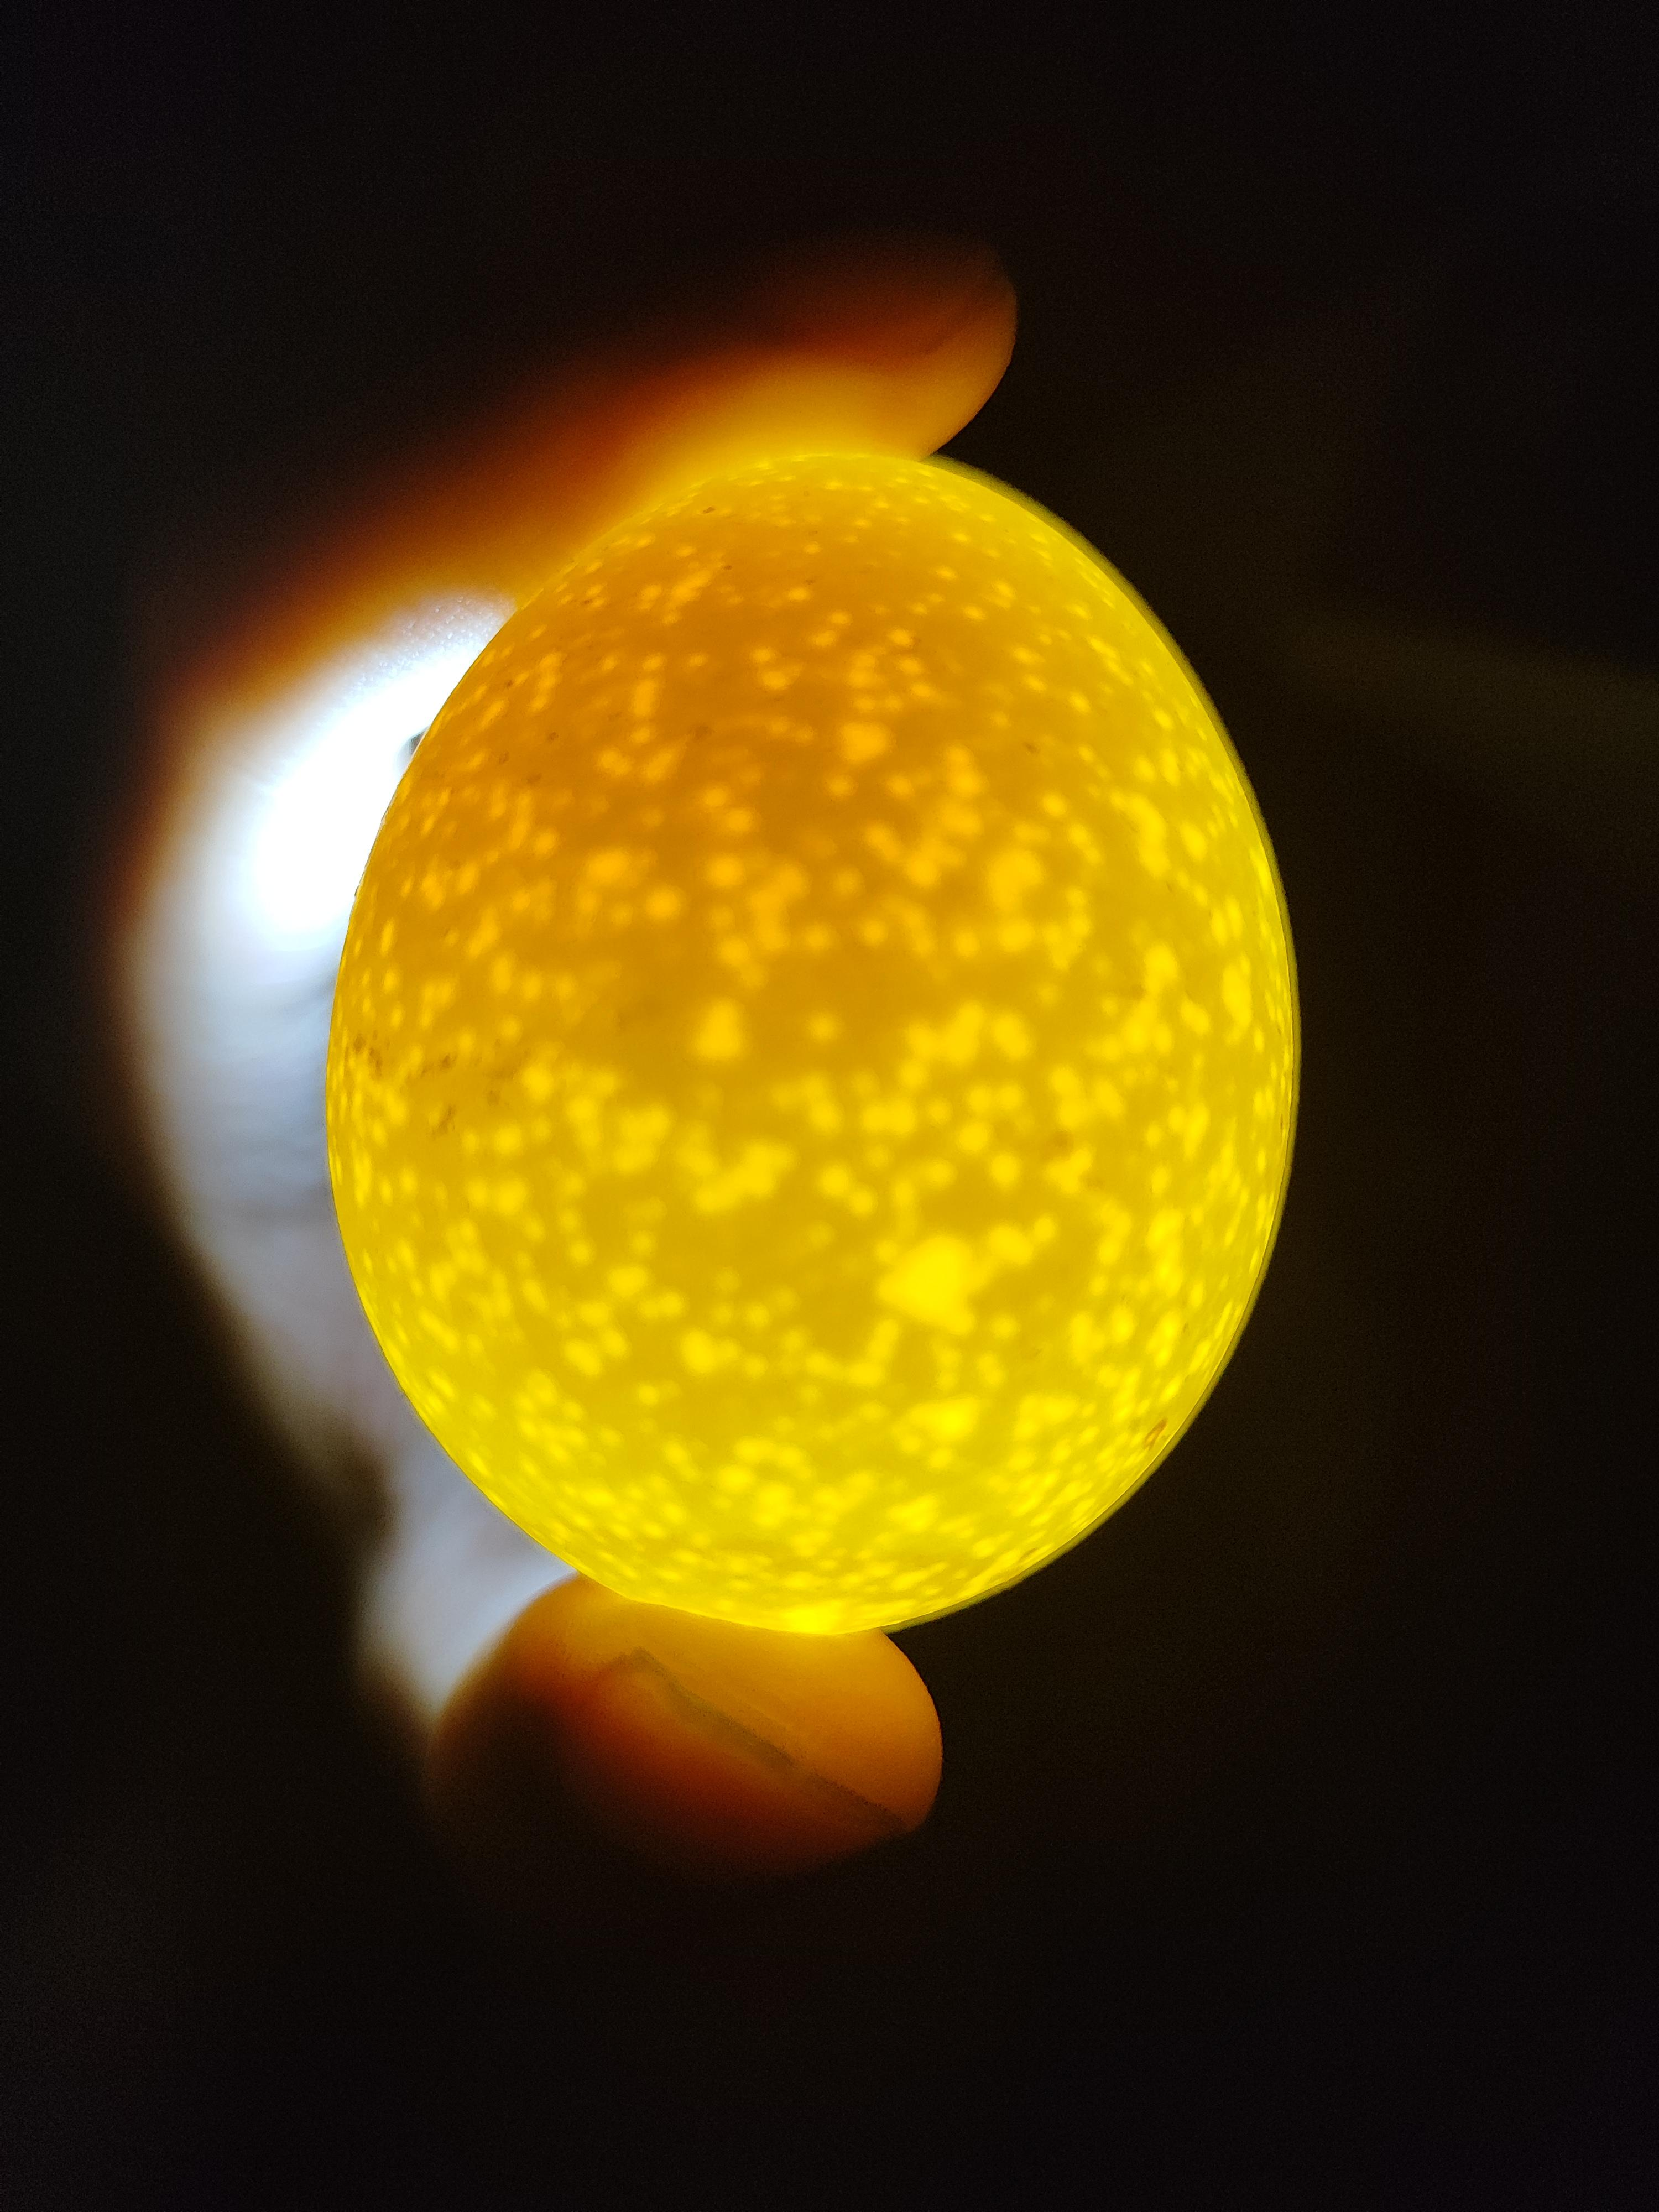AA - Premium: (312, 409, 1316, 1656)
